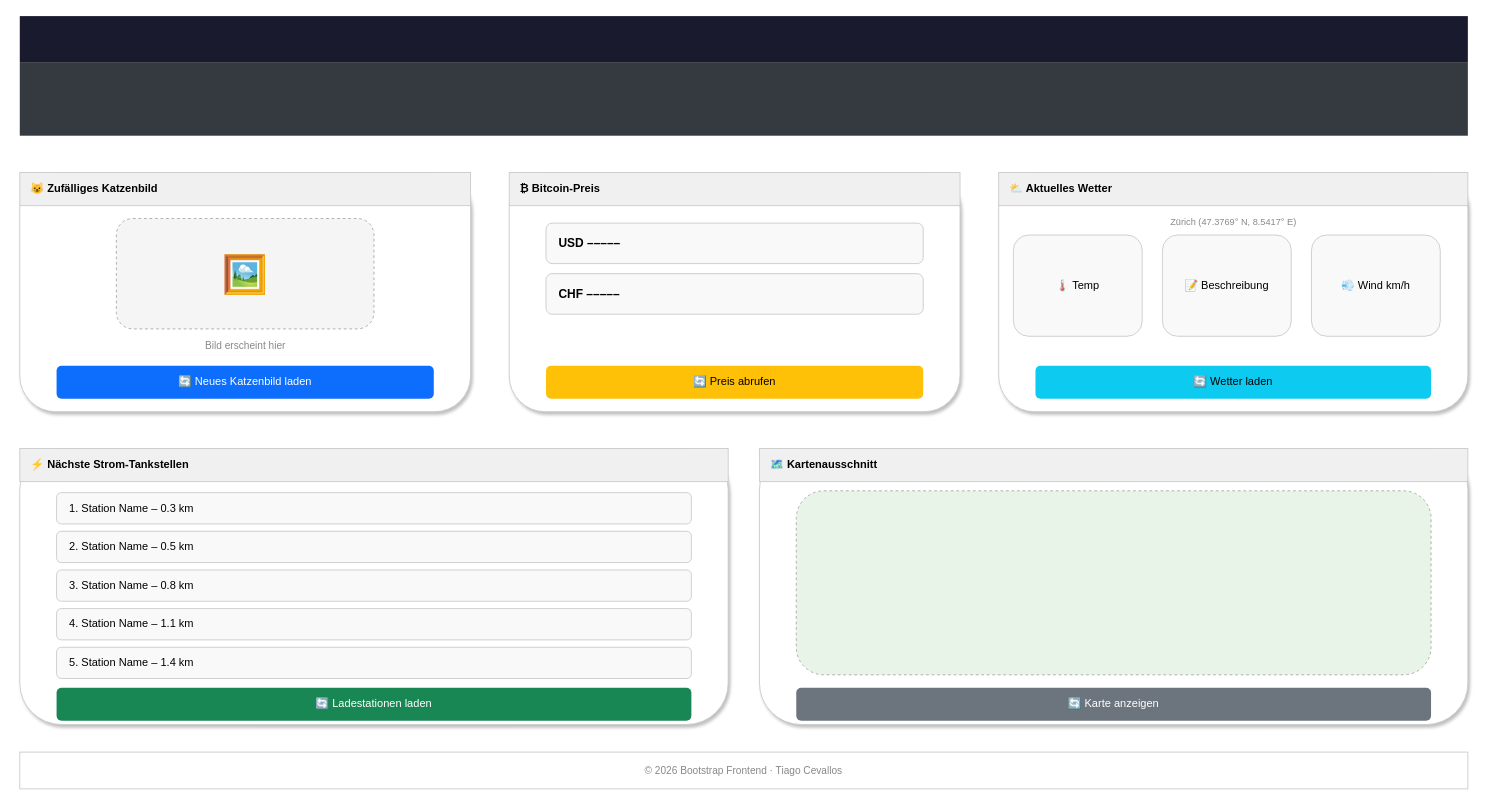
The diagram is 1489 pixels wide and 805 high, and some of its shapes have lost their labels. Each missing label, with the centre of its shape:
Bootstrap Frontend Katzen · Bitcoin · Wetter · Ladestationen · Karte: pixel 743 98
📍 Kartenansicht Zürich (47.3769, 8.5417): pixel 1113 582
🔲 Dashboard: pixel 743 39
